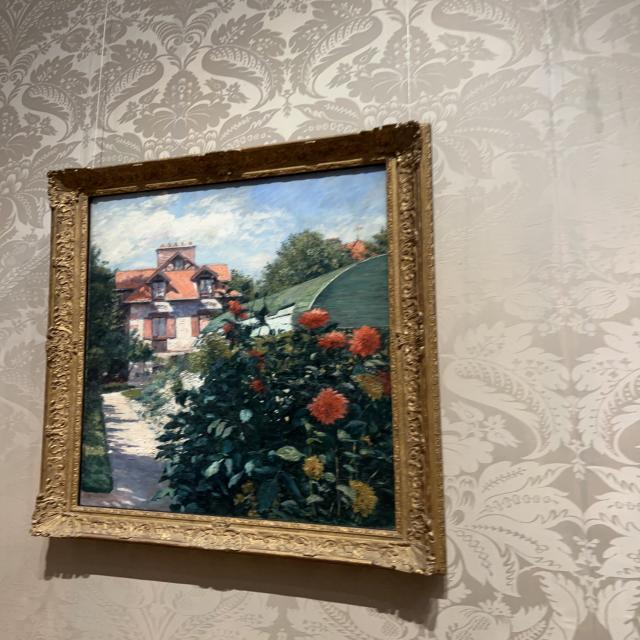summer: (79, 169, 391, 530)
